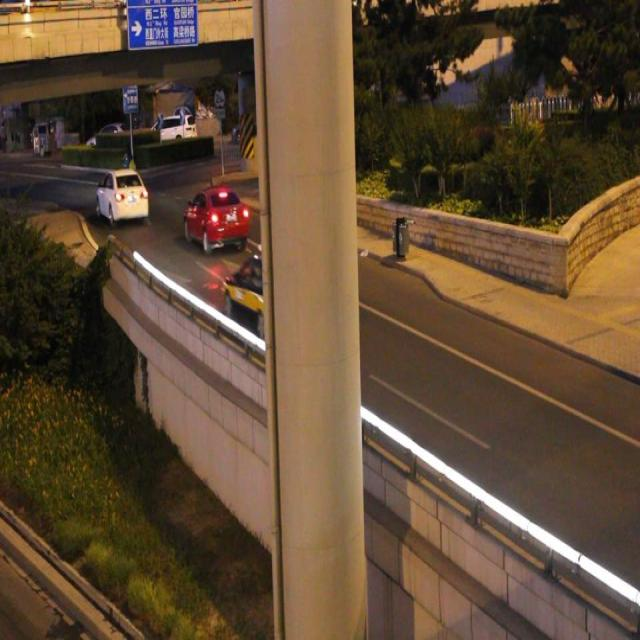car: (222, 245, 320, 348), (182, 186, 248, 250), (96, 166, 149, 226)
